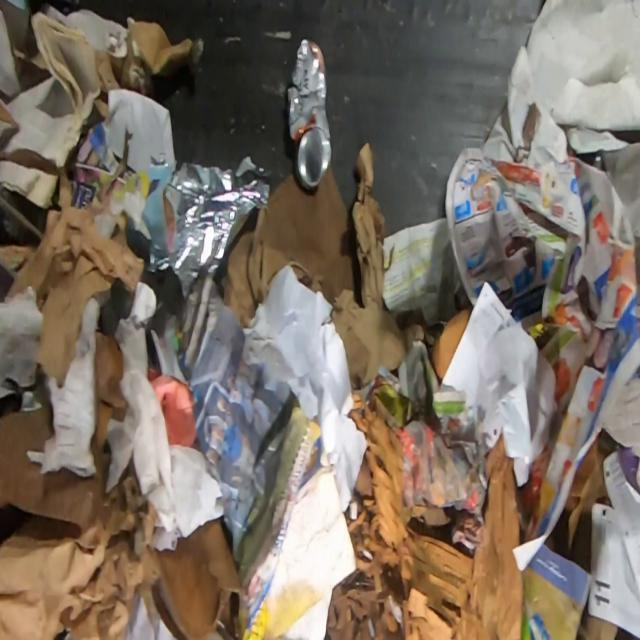cardboard: (321, 367, 553, 639), (224, 140, 427, 394), (512, 282, 640, 571), (0, 402, 124, 527), (154, 514, 240, 639), (128, 24, 192, 95), (431, 309, 472, 380)
metal: (149, 153, 270, 300), (288, 38, 332, 192)
